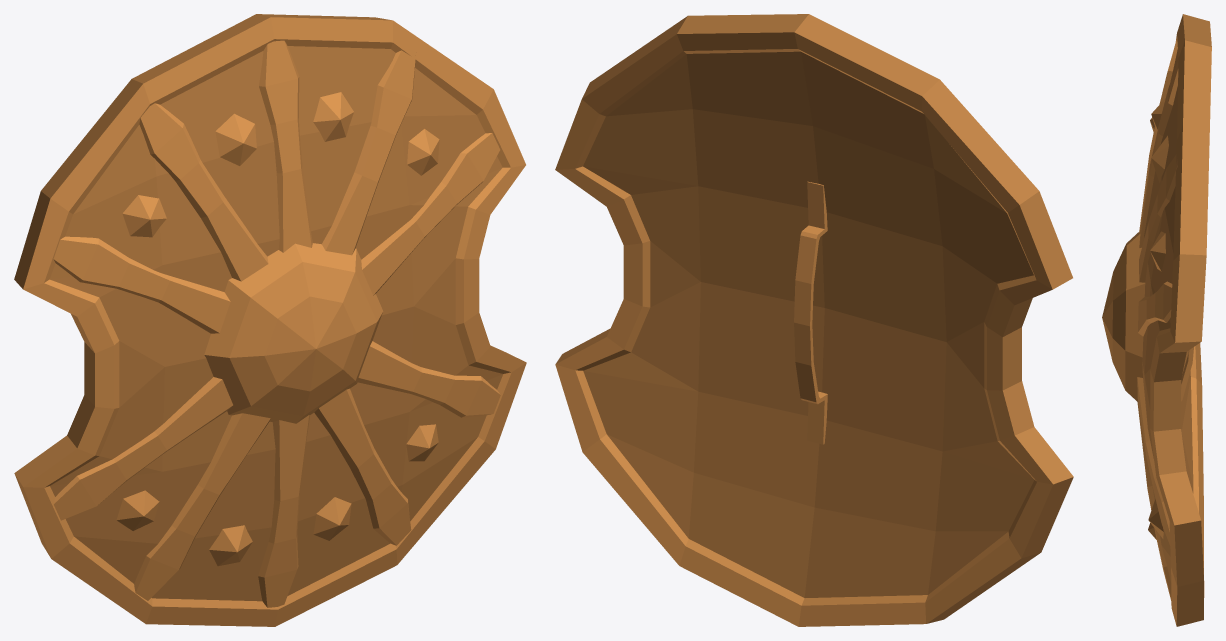
The model's file is SM_pwe_rome_shield_07.fbx.
3 views of the same model, side by side, from view 1: azimuth 30°, elevation 25°; view 2: azimuth 150°, elevation 25°; view 3: azimuth 270°, elevation 25° (orthographic). The views are drawn at different scales.
Parts seen in each view (by area): view 1: SM_pwe_rome_shield_07; view 2: SM_pwe_rome_shield_07; view 3: SM_pwe_rome_shield_07.
Part boxes in pixels (box(x1,y1,x2,y2)): SM_pwe_rome_shield_07: box(14, 14, 526, 626); SM_pwe_rome_shield_07: box(555, 14, 1073, 626); SM_pwe_rome_shield_07: box(1102, 14, 1211, 626).
Size of the model in its own units: 86.04 by 98.7 by 17.51.
